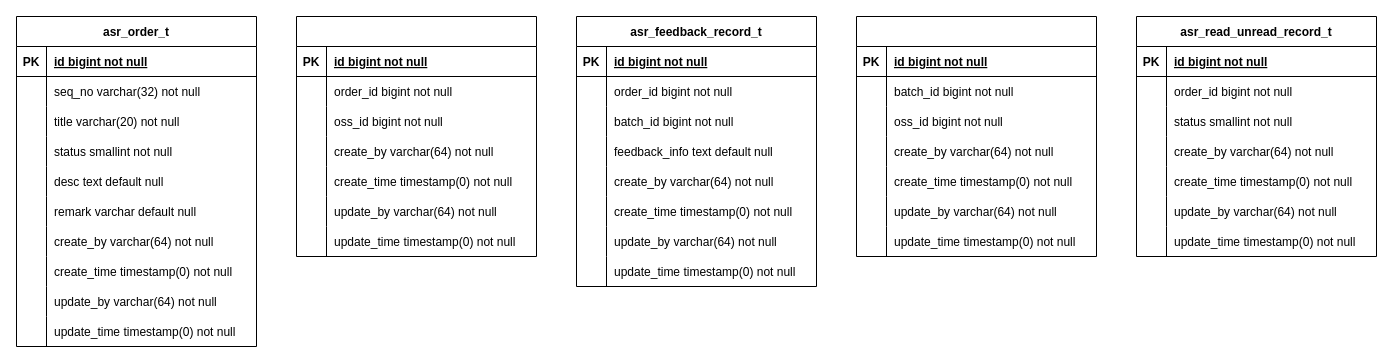
This 1393x363 diagram has some shape labels left out. The box of each missing label's shape, as (x1, y1, x2, y2) in pixels:
asr_feedback_record_oss_ref_t: (856, 16, 1096, 256)
asr_order_oss_ref_t: (296, 16, 536, 256)
